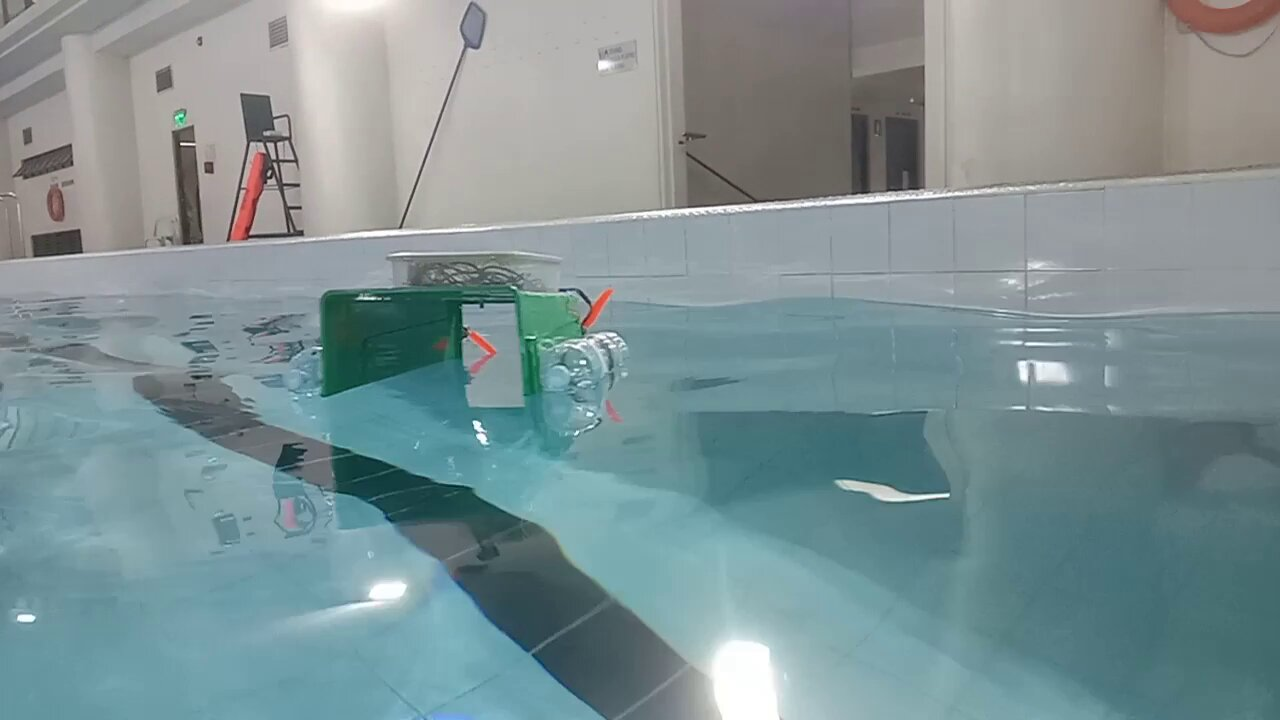drone: (283, 248, 633, 405)
